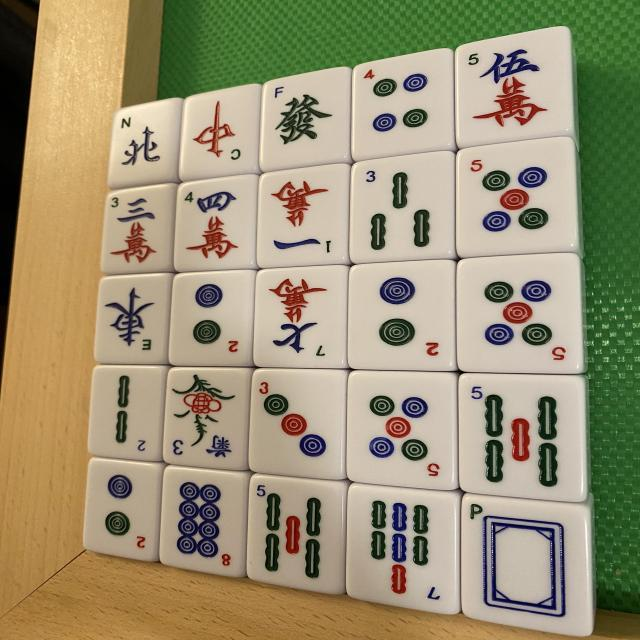bf3: (160, 372, 246, 474)
hdg: (260, 69, 350, 176)
hdr: (180, 88, 261, 182)
hdw: (466, 492, 594, 636)
hwe: (96, 272, 172, 364)
hwn: (110, 98, 184, 190)
sb2: (90, 366, 167, 464)
sb3: (353, 157, 457, 268)
sb5: (246, 474, 344, 594), (464, 382, 570, 489)
sb7: (349, 488, 462, 620)
sc1: (262, 180, 345, 261)
sc3: (103, 185, 178, 277)
sc4: (175, 178, 259, 274)
sc5: (457, 29, 572, 148)
sc7: (254, 266, 346, 370)
sd2: (351, 260, 458, 372), (170, 272, 254, 366), (84, 459, 160, 558)
sd3: (256, 376, 340, 467)
sd4: (355, 53, 448, 153)
sd5: (463, 255, 583, 373), (462, 136, 578, 254), (351, 371, 459, 494)
sd8: (162, 472, 248, 580)
